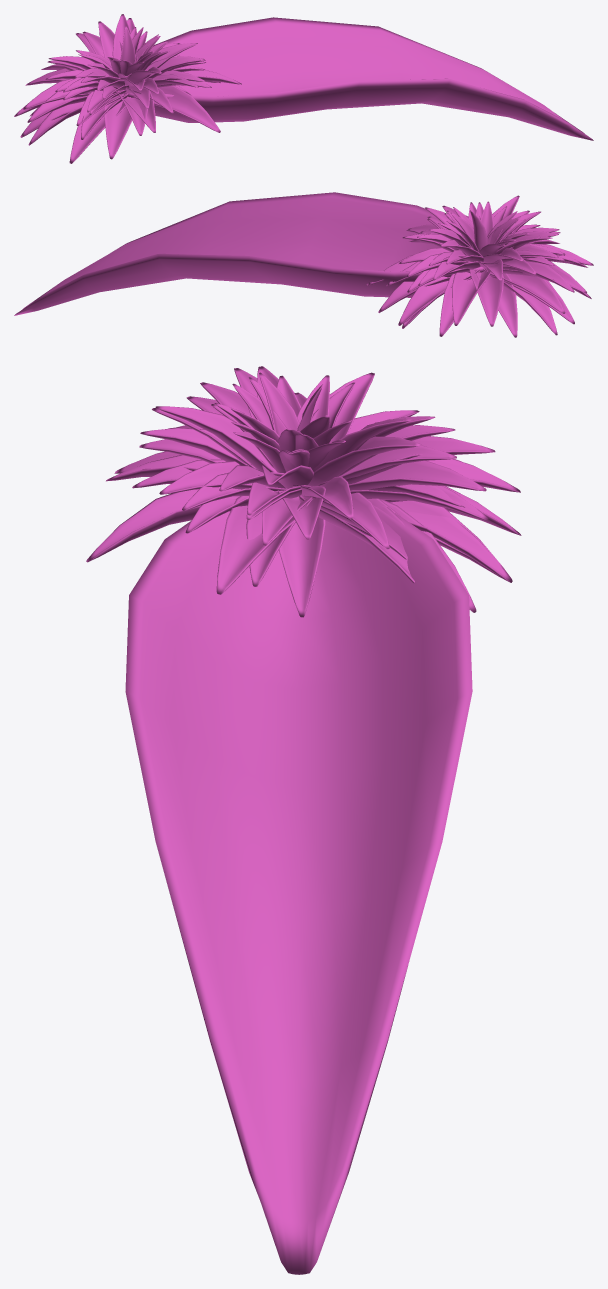
Rendered from dahlia_light_pink.obj.
The picture shows the model from 3 angles, top to bottom: view 1: azimuth 30°, elevation 25°; view 2: azimuth 150°, elevation 25°; view 3: azimuth 270°, elevation 25°; orthographic projection. The views are drawn at different scales.
Visible parts, largest first — view 1: Sphere_Leaf_Emitter; view 2: Sphere_Leaf_Emitter; view 3: Sphere_Leaf_Emitter.
Boxes of the visible parts, x1=… form: Sphere_Leaf_Emitter: x1=14, y1=14, x2=593, y2=163; Sphere_Leaf_Emitter: x1=14, y1=192, x2=593, y2=337; Sphere_Leaf_Emitter: x1=86, y1=366, x2=521, y2=1274.
Size of the model in its own units: 36.4 by 13.59 by 12.12.
